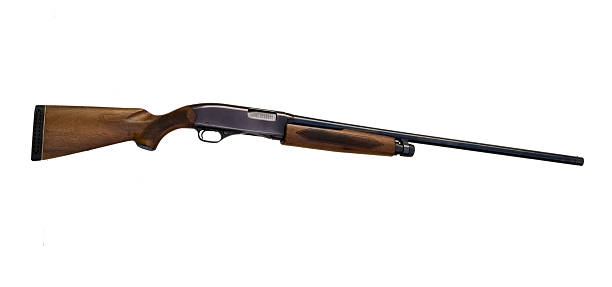shotgun: (26, 98, 588, 173)
